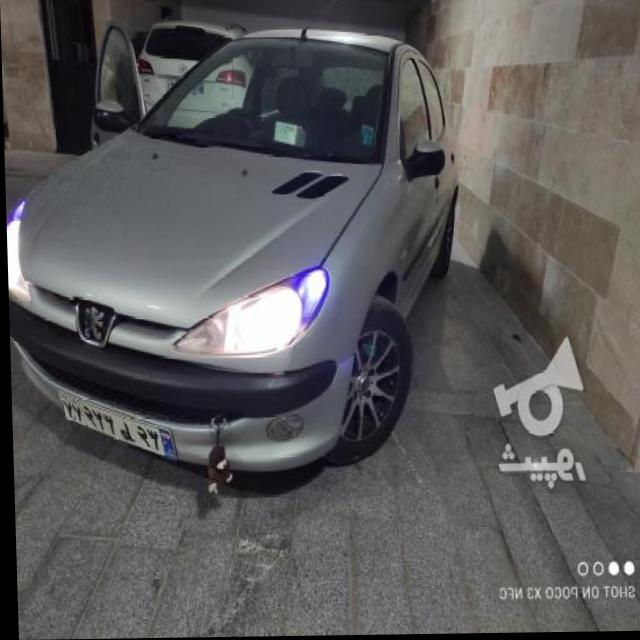licence: (58, 386, 176, 475)
